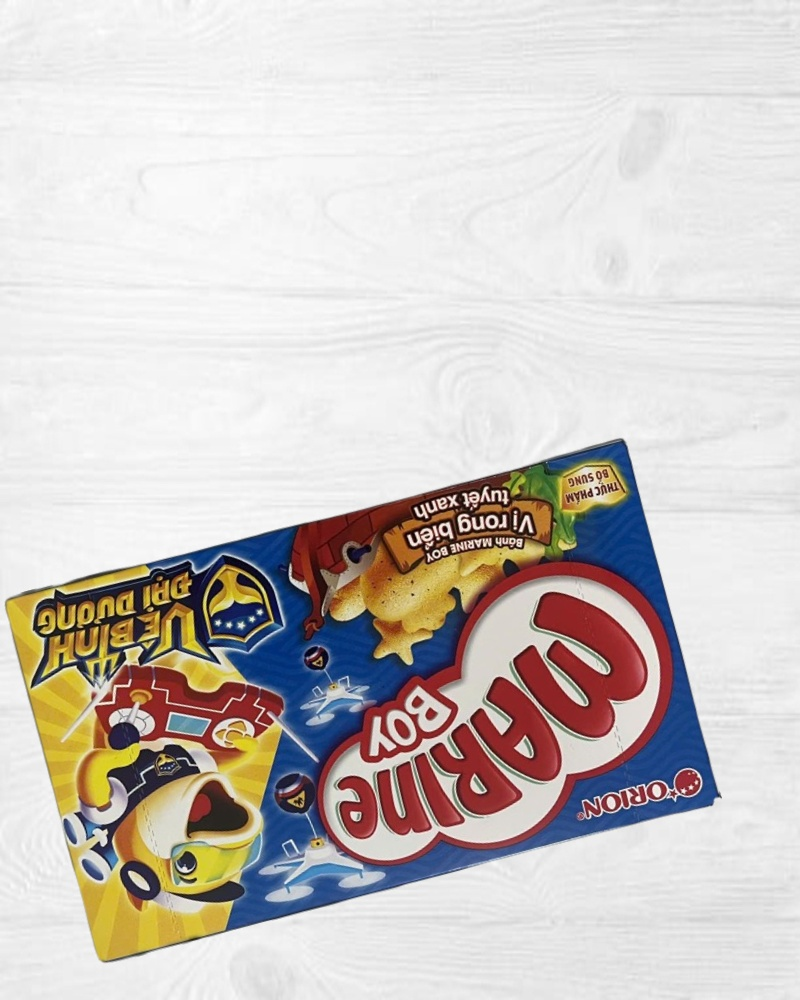Marine: (1, 433, 723, 969)
